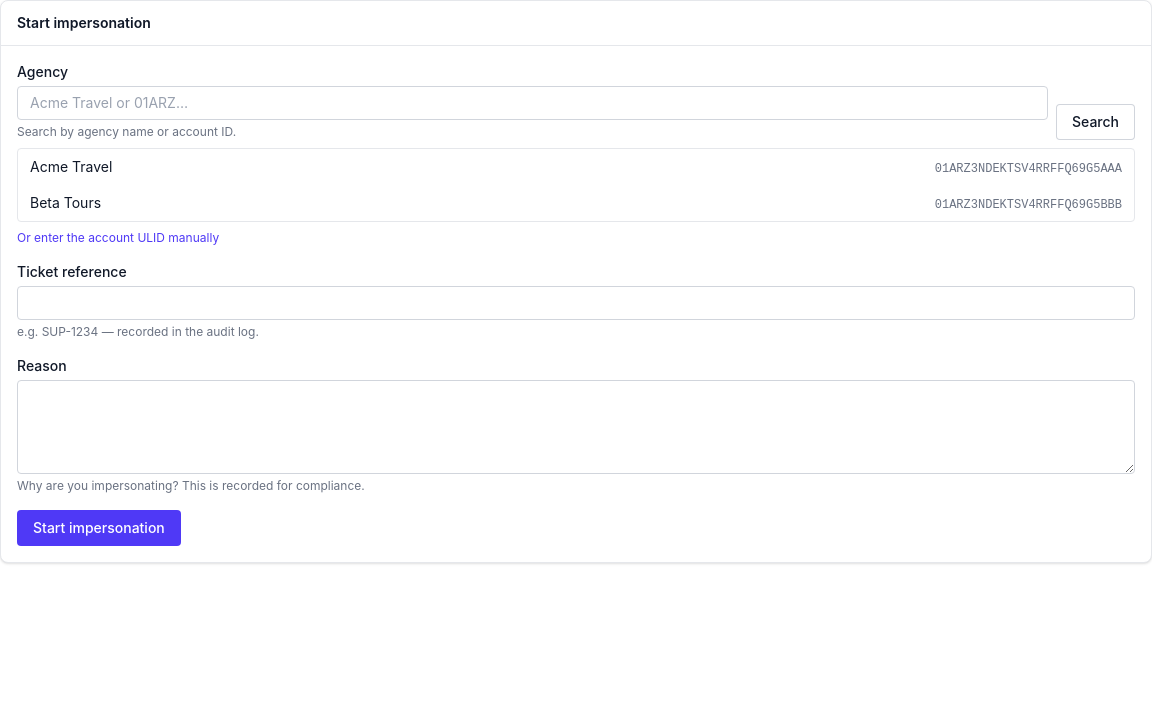
ImpersonationStartForm — selector mode (default) › GG5 — clicking an agency option selects it (selected display + hidden field)
This screenshot has width=1152, height=720.
Click the button "Acme Travel 01ARZ3NDEKTSV4RRFFQ69G5AAA".
click(71, 166)  # box [18,149,1134,185]
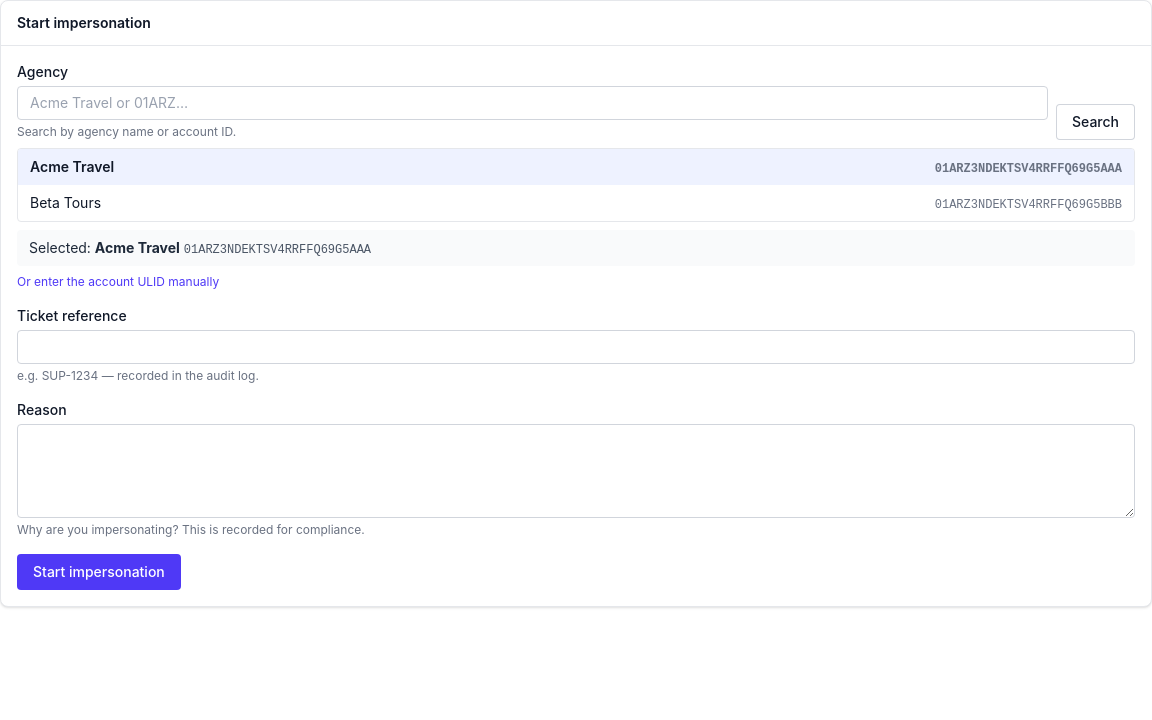
Result: the text with test id "agency-selected-name" reads "Acme Travel" at [95,239,180,256]
Result: the text with test id "agency-selected-id" reads "01ARZ3NDEKTSV4RRFFQ69G5AAA" at [184,243,371,257]
